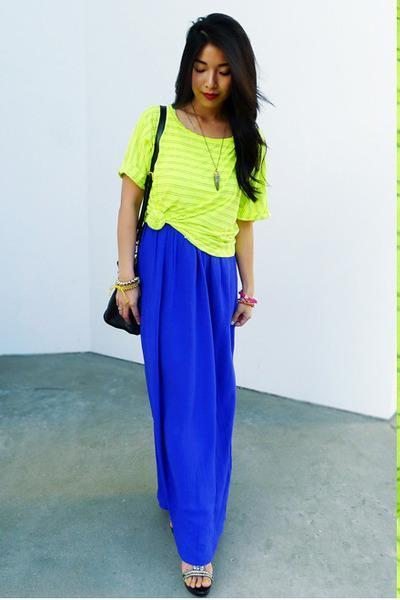bag: (104, 288, 140, 334)
pants: (138, 228, 241, 566)
shirt: (119, 106, 267, 256)
shoe: (156, 564, 210, 599)
